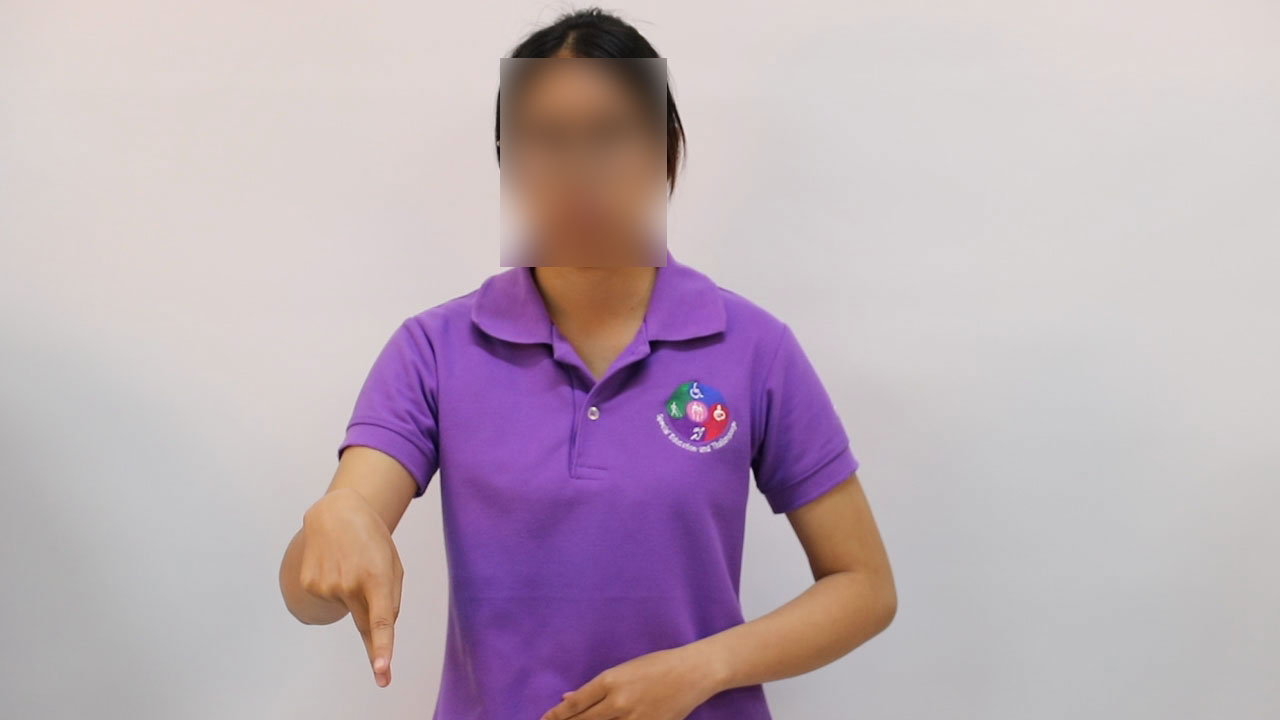por: (294, 484, 424, 696)
